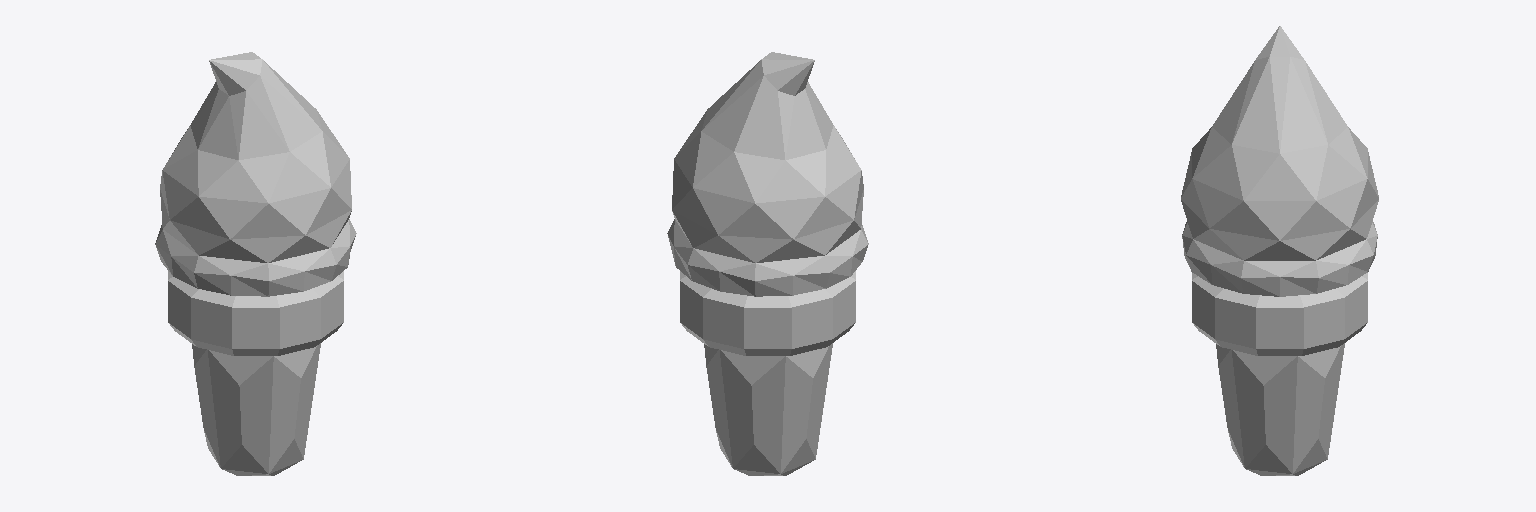
The model's file is food_icecream_cone_vanilla.obj.
3 views of the same model, side by side, from view 1: azimuth 30°, elevation 25°; view 2: azimuth 150°, elevation 25°; view 3: azimuth 270°, elevation 25° (orthographic).
Parts seen in each view (by area): view 1: food_icecream_cone_vanilla_Cylinder.305; view 2: food_icecream_cone_vanilla_Cylinder.305; view 3: food_icecream_cone_vanilla_Cylinder.305.
Boxes of the visible parts, <box> form: food_icecream_cone_vanilla_Cylinder.305: <box>155,52,356,475</box>; food_icecream_cone_vanilla_Cylinder.305: <box>667,52,868,475</box>; food_icecream_cone_vanilla_Cylinder.305: <box>1181,26,1378,475</box>.
Size of the model in its own units: 0.4499 by 1.04 by 0.45.